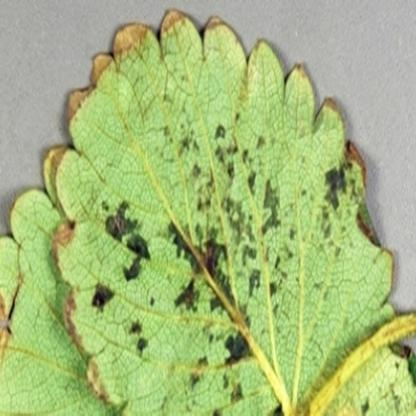Strawberry_Angular_LeafSpot: (49, 7, 396, 415)
